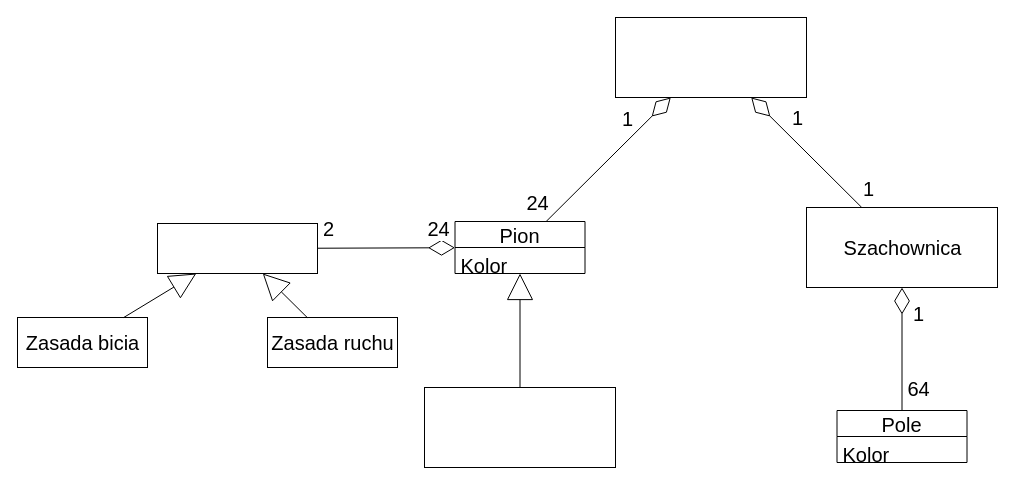
Image size: 1015x485. Some labels were removed from this diagram. Here are the shapes that lost their labels. From the top down, the centre of each, then its label:
At [710,57]: "Gra".
At [237,248]: "Zasada piona".
At [520,427]: "Damka".
